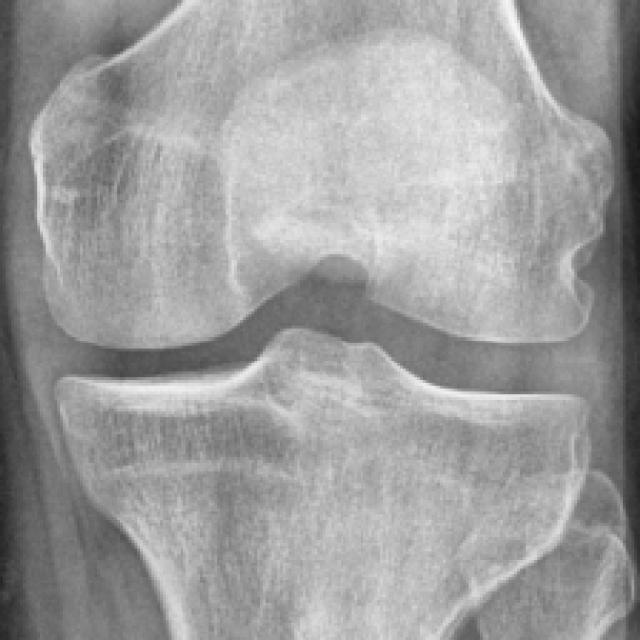femur: (31, 1, 609, 346)
tibia: (60, 329, 590, 637)
